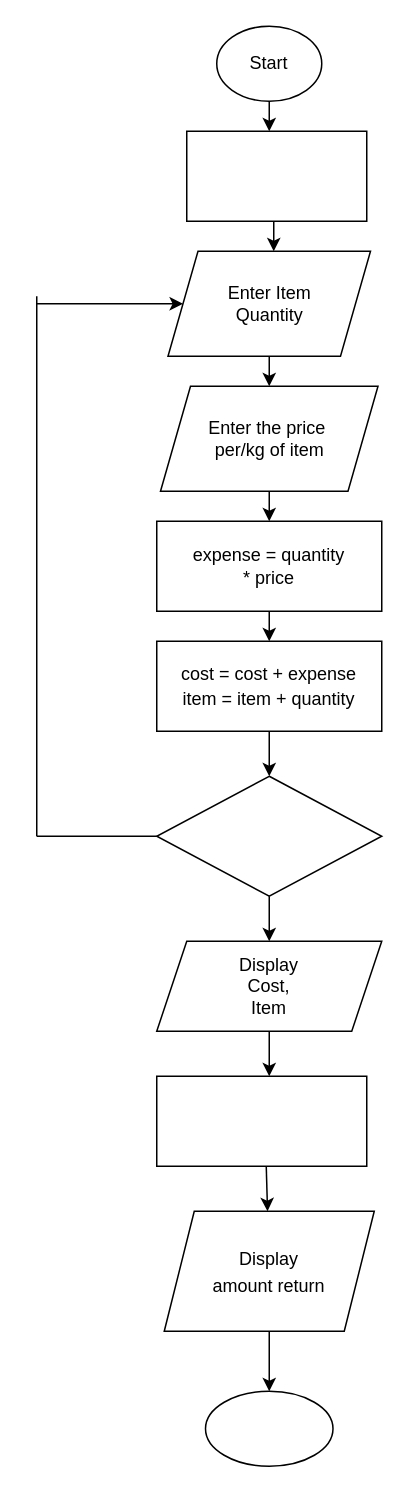
The diagram is 408 pixels wide and 1493 high, and some of its shapes have lost their labels. The centre of each missing label's shape, as x and y in pixels:
"amoun return = amount - cost" goes at point 261,1120.
"amount = 5000 item = 0.0 cost = 0.0" goes at point 276,175.
"End" goes at point 268,1428.
"while quantity != 0.0" goes at point 268,835.
